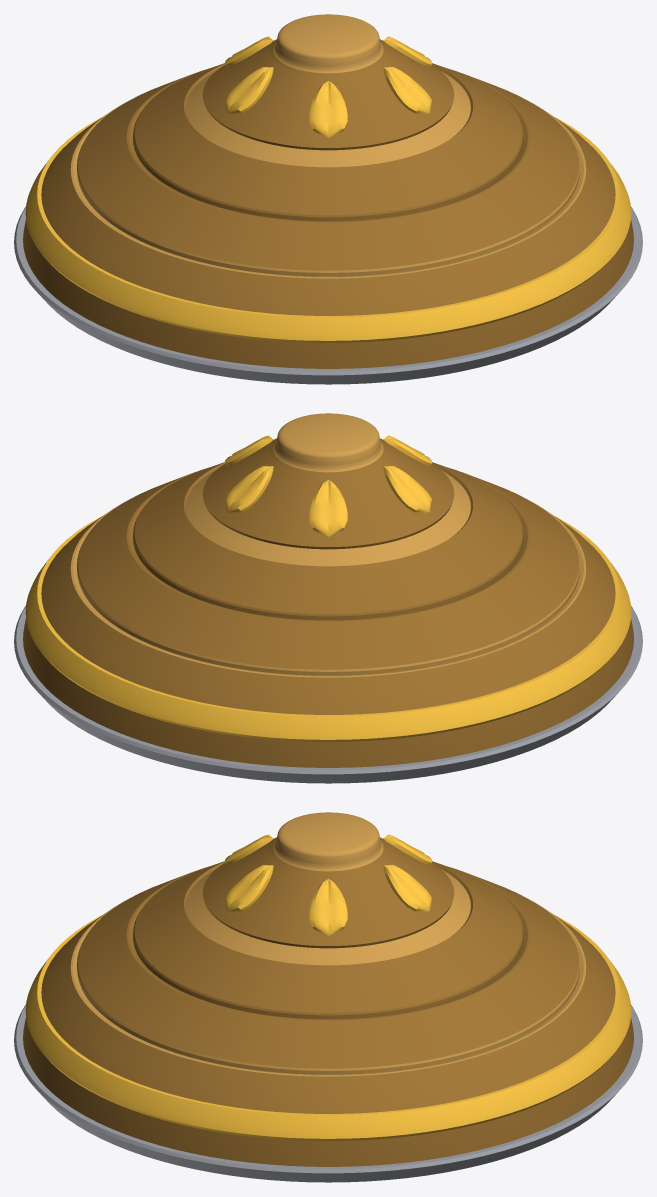
Rendered from gasing_uri.glb.
3 views of the same model, one above another, from view 1: azimuth 30°, elevation 25°; view 2: azimuth 150°, elevation 25°; view 3: azimuth 270°, elevation 25° (orthographic).
Visible parts, largest first — view 1: Gasing_uri; view 2: Gasing_uri; view 3: Gasing_uri.
Part boxes in pixels (x1=…): Gasing_uri: x1=14, y1=14, x2=642, y2=384; Gasing_uri: x1=14, y1=413, x2=642, y2=783; Gasing_uri: x1=14, y1=812, x2=642, y2=1182.
Bounding box in the file's own units: 1.12 × 0.6 × 1.12.
